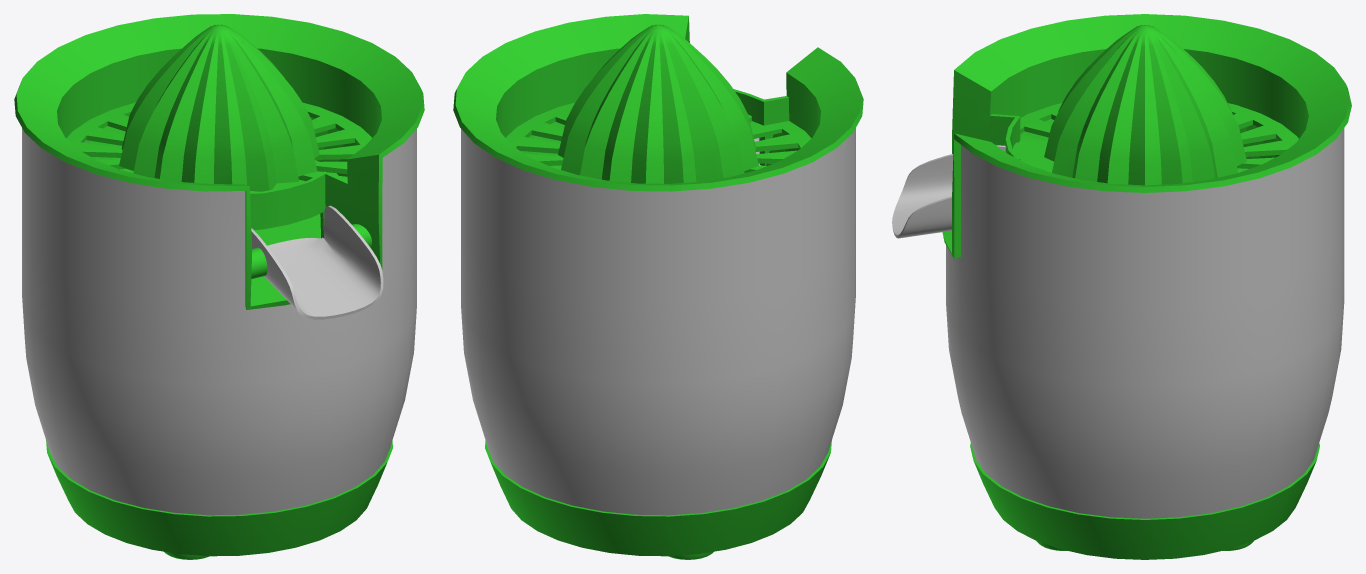
Rendered from OrangeJuicer.obj.
The picture shows the model from 3 angles, left to right: view 1: azimuth 30°, elevation 25°; view 2: azimuth 150°, elevation 25°; view 3: azimuth 270°, elevation 25°; orthographic projection.
Visible parts, largest first — view 1: Cylinder, Cylinder.001, Cylinder.002, Cube, Cylinder.004_Cylinder.003; view 2: Cylinder, Cylinder.001, Cylinder.002; view 3: Cylinder, Cylinder.001, Cylinder.002, Cube.
Boxes of the visible parts, <box> form: Cylinder: <box>22,128,416,556</box>; Cylinder.001: <box>14,14,424,309</box>; Cylinder.002: <box>119,24,319,191</box>; Cube: <box>251,205,383,319</box>; Cylinder.004_Cylinder.003: <box>251,224,371,279</box>; Cylinder: <box>461,128,855,556</box>; Cylinder.001: <box>453,14,863,191</box>; Cylinder.002: <box>558,24,758,183</box>; Cylinder: <box>946,125,1344,559</box>; Cylinder.001: <box>942,14,1351,258</box>; Cylinder.002: <box>1012,25,1246,185</box>; Cube: <box>892,145,1005,238</box>.
Size of the model in its own units: 2.27 by 2.9 by 2.52.
